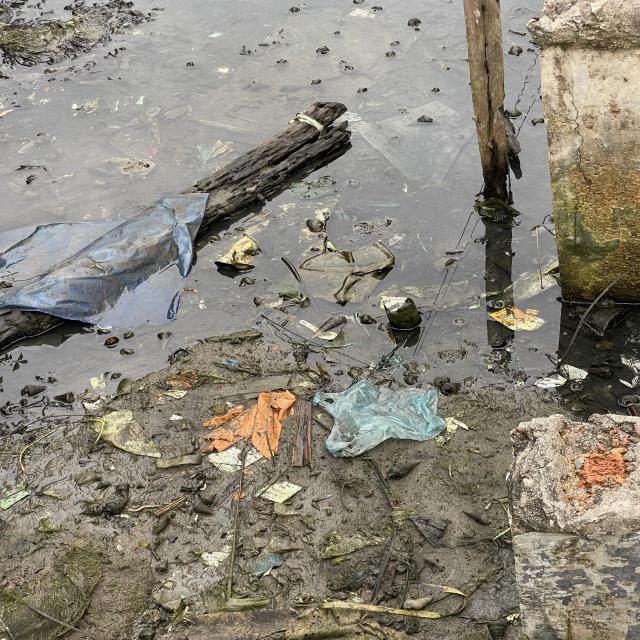Bungkus Minuman: (490, 306, 550, 333)
Kantong Plastik: (1, 194, 211, 329), (313, 379, 447, 457)
